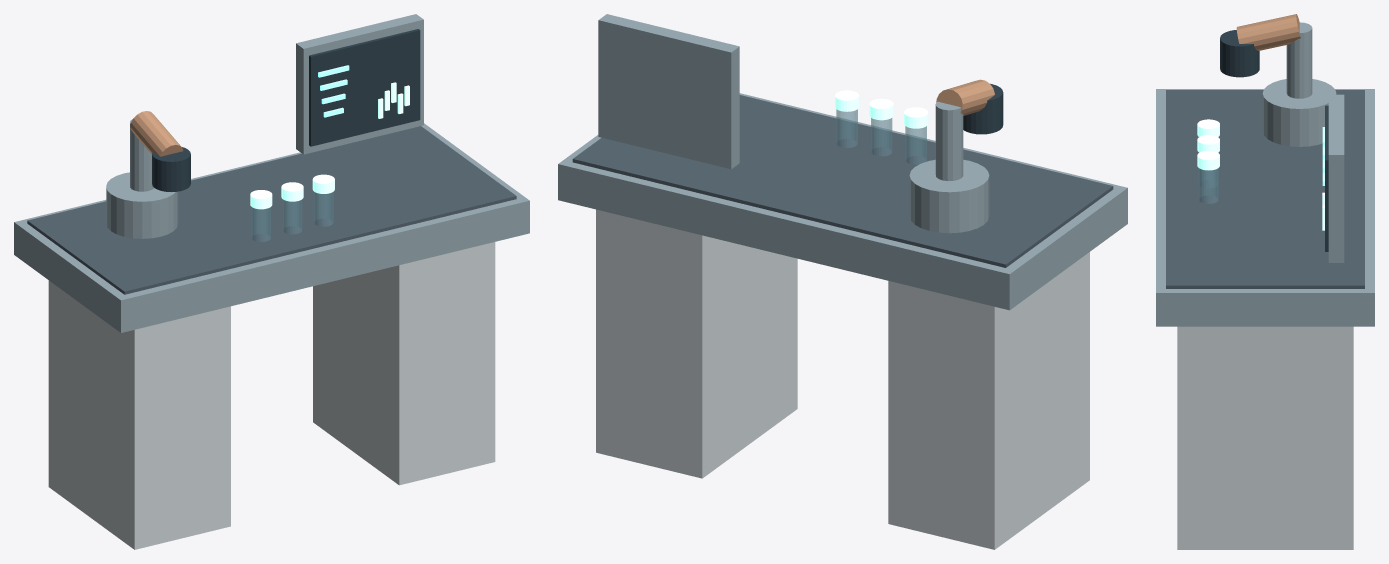
The model's file is lab_bench.glb.
3 renders of one model, left to right at view 1: azimuth 30°, elevation 25°; view 2: azimuth 150°, elevation 25°; view 3: azimuth 270°, elevation 25°, orthographic. The views are drawn at different scales.
Visible parts, largest first — view 1: ivory_0, ivory_1, dark_3, steel_2, black_5, steel_4, steel_15, black_18, copper_17, steel_16, glass_19, glass_21 (+1 smaller); view 2: ivory_0, ivory_1, dark_3, steel_2, steel_4, steel_15, steel_16, copper_17, black_18, glass_23, glass_19, glass_21; view 3: ivory_1, dark_3, steel_2, steel_15, steel_4, steel_16, copper_17, black_18, glass_23, black_5, green_24, green_20 (+1 smaller).
Boxes of the visible parts, x1=… form: ivory_0: x1=48, y1=280, x2=230, y2=549; ivory_1: x1=313, y1=242, x2=495, y2=485; dark_3: x1=27, y1=126, x2=516, y2=294; steel_2: x1=14, y1=123, x2=529, y2=332; black_5: x1=309, y1=29, x2=420, y2=146; steel_4: x1=296, y1=14, x2=423, y2=154; steel_15: x1=106, y1=172, x2=178, y2=238; black_18: x1=152, y1=147, x2=190, y2=191; copper_17: x1=130, y1=111, x2=183, y2=156; steel_16: x1=130, y1=119, x2=153, y2=191; glass_19: x1=251, y1=207, x2=270, y2=241; glass_21: x1=283, y1=199, x2=302, y2=233; ivory_0: x1=888, y1=252, x2=1089, y2=549; ivory_1: x1=596, y1=209, x2=797, y2=478; dark_3: x1=572, y1=95, x2=1113, y2=267; steel_2: x1=558, y1=93, x2=1127, y2=310; steel_4: x1=598, y1=14, x2=739, y2=169; steel_15: x1=909, y1=159, x2=989, y2=233; steel_16: x1=935, y1=101, x2=963, y2=180; copper_17: x1=936, y1=79, x2=994, y2=115; black_18: x1=963, y1=83, x2=1003, y2=134; glass_23: x1=836, y1=109, x2=857, y2=147; glass_19: x1=905, y1=126, x2=926, y2=164; glass_21: x1=871, y1=118, x2=892, y2=155; ivory_1: x1=1177, y1=326, x2=1353, y2=549; dark_3: x1=1166, y1=90, x2=1364, y2=288; steel_2: x1=1156, y1=89, x2=1374, y2=326; steel_15: x1=1262, y1=79, x2=1336, y2=146; steel_4: x1=1328, y1=94, x2=1344, y2=262; steel_16: x1=1286, y1=22, x2=1312, y2=98; copper_17: x1=1236, y1=14, x2=1300, y2=50; black_18: x1=1220, y1=30, x2=1259, y2=77; glass_23: x1=1198, y1=168, x2=1218, y2=203; black_5: x1=1325, y1=105, x2=1328, y2=251; green_24: x1=1197, y1=150, x2=1219, y2=170; green_20: x1=1197, y1=119, x2=1219, y2=136.
Size of the model in its own units: 1.7 by 1.54 by 0.77.
